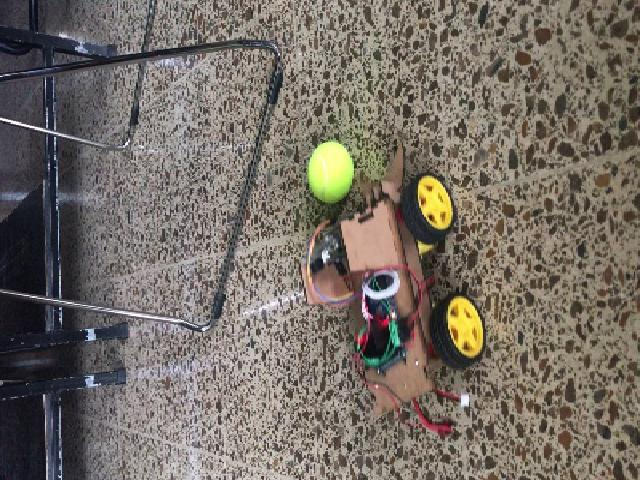Ball: (307, 143, 355, 202)
Robot: (302, 143, 486, 415)
